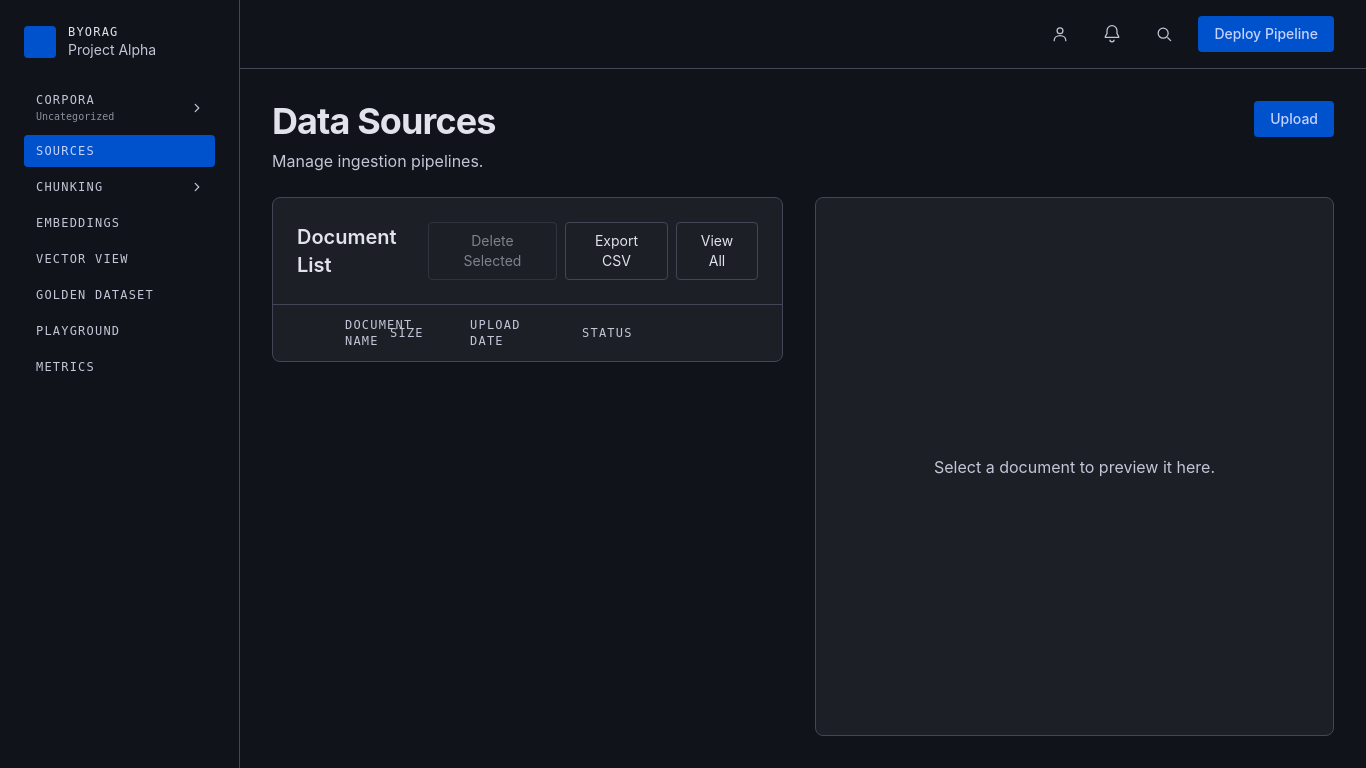
Test: App navigation › renders the Fixed Size Chunking screen after navigating there from the sidebar
Click the link "CHUNKING": (70,187) [36,180,203,194]
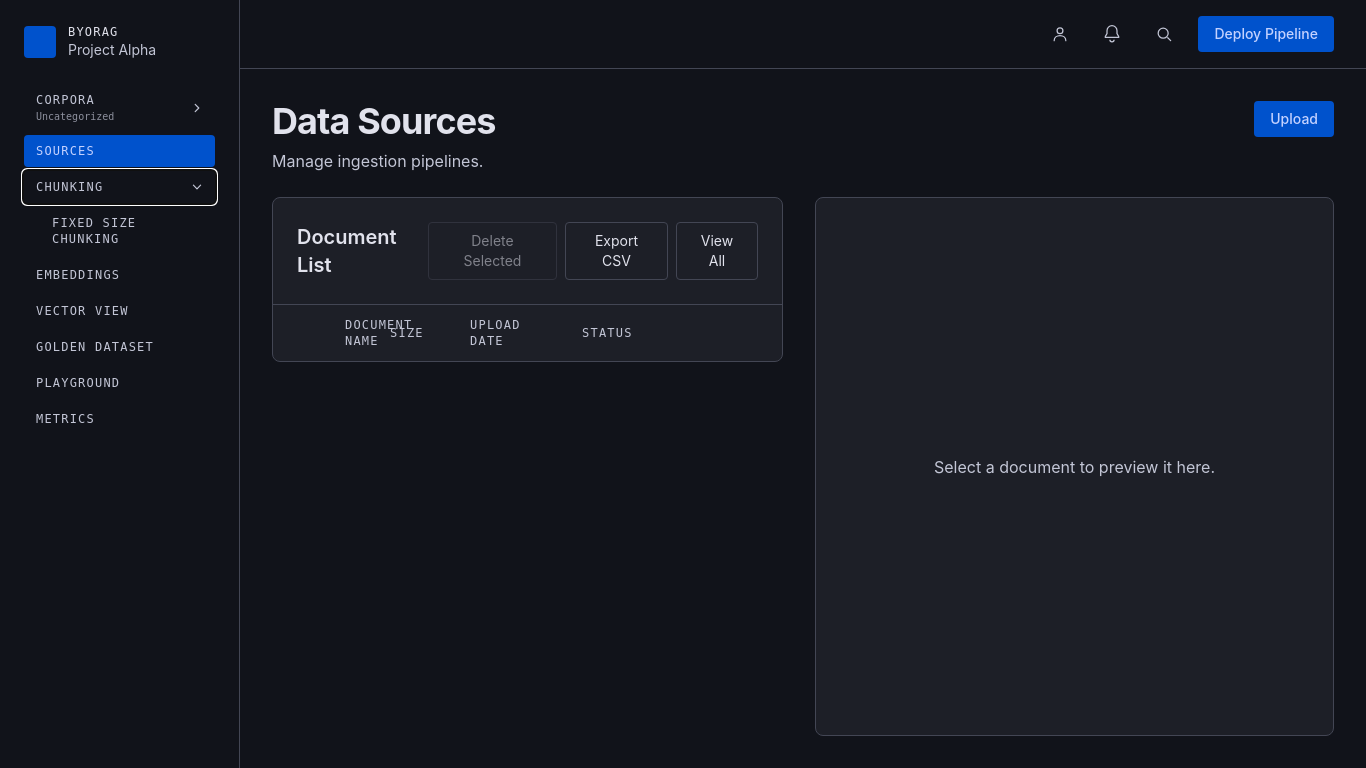
Click the link "FIXED SIZE CHUNKING": (94,231) [52,216,136,246]
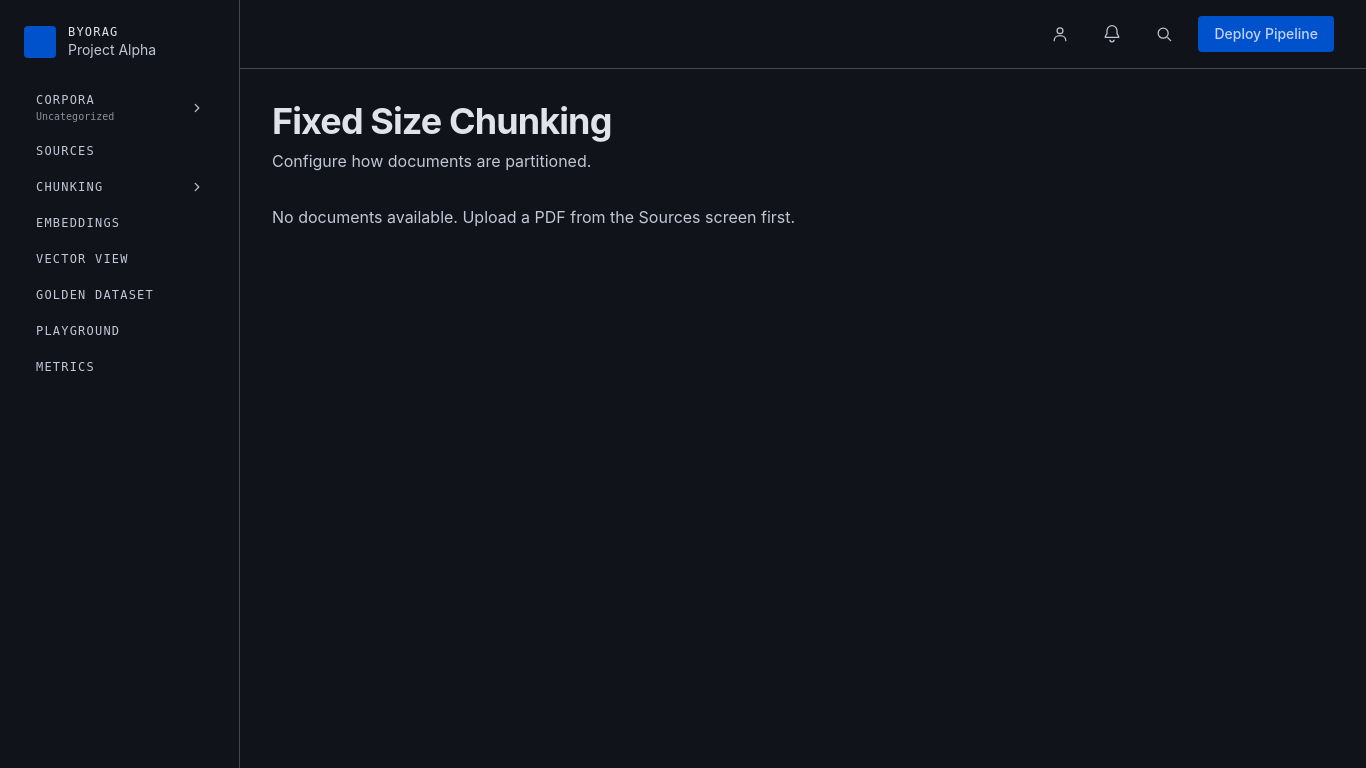
Now the heading "Fixed Size Chunking" is shown, box [272,99,612,143]
Now the heading "Data Sources" is gone
